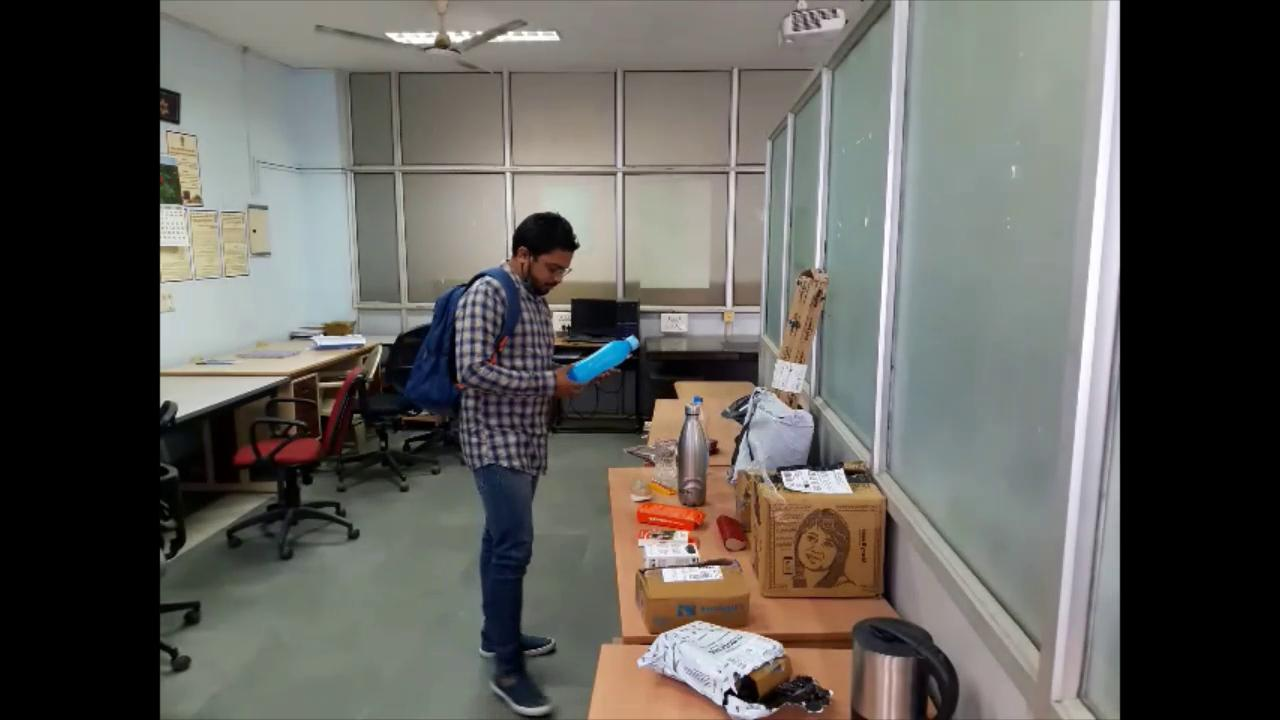Normal: (394, 200, 645, 720)
